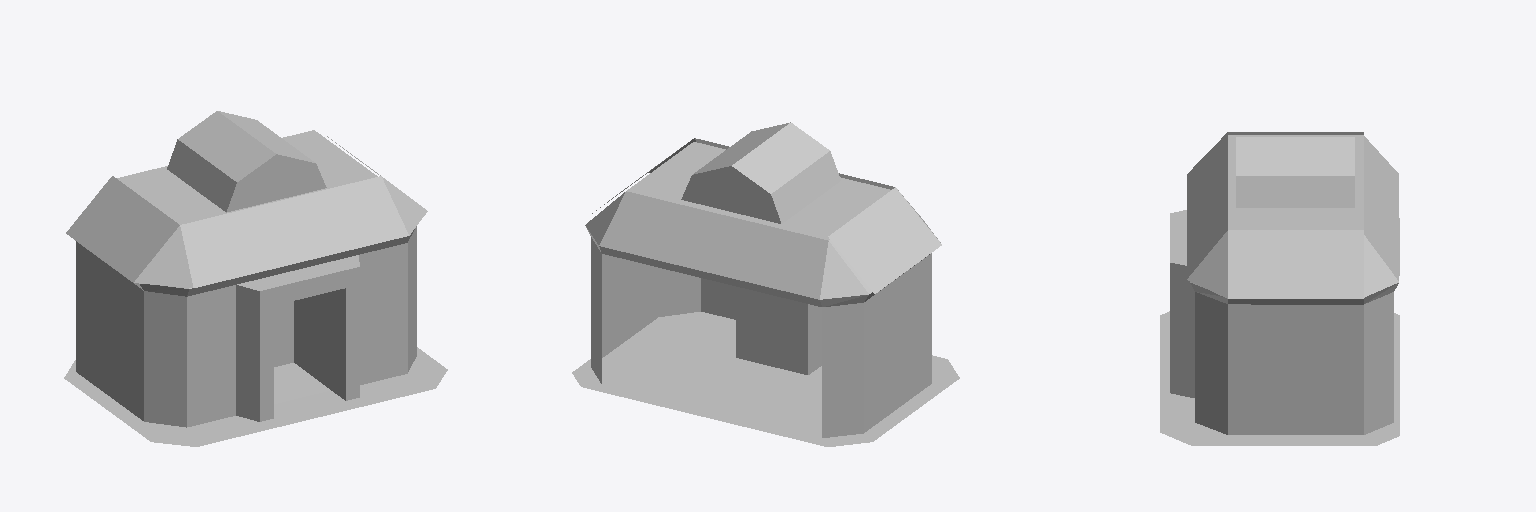
Rendered from Pokémon Center.obj.
3 views of the same model, side by side, from view 1: azimuth 30°, elevation 25°; view 2: azimuth 150°, elevation 25°; view 3: azimuth 270°, elevation 25° (orthographic).
Parts seen in each view (by area): view 1: polygon2, polygon1, polygon3, polygon0; view 2: polygon3, polygon2, polygon0, polygon1; view 3: polygon2, polygon3, polygon1, polygon0.
Boxes of the visible parts, box(x1,y1,x2,y2) form: polygon2: box(76, 226, 416, 427); polygon1: box(66, 136, 427, 287); polygon3: box(79, 111, 414, 308); polygon0: box(64, 347, 447, 446); polygon3: box(585, 122, 929, 306); polygon2: box(591, 237, 931, 437); polygon0: box(572, 312, 959, 446); polygon1: box(592, 138, 941, 293); polygon2: box(1170, 281, 1393, 434); polygon3: box(1170, 135, 1399, 304); polygon1: box(1187, 132, 1363, 298); polygon0: box(1160, 311, 1399, 445).
Size of the model in its own units: 82.64 by 62.75 by 58.